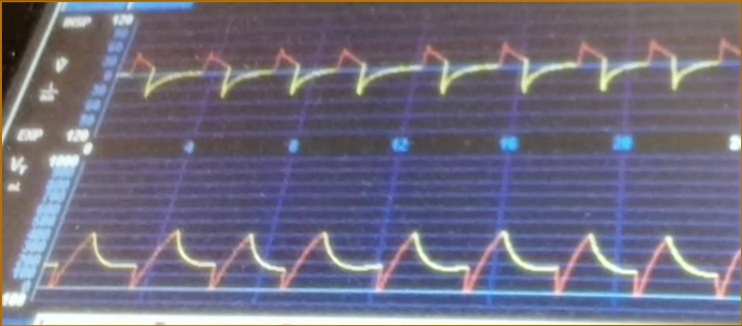Flow: (129, 28, 742, 132)
Leakage Volume: (68, 193, 742, 312)
